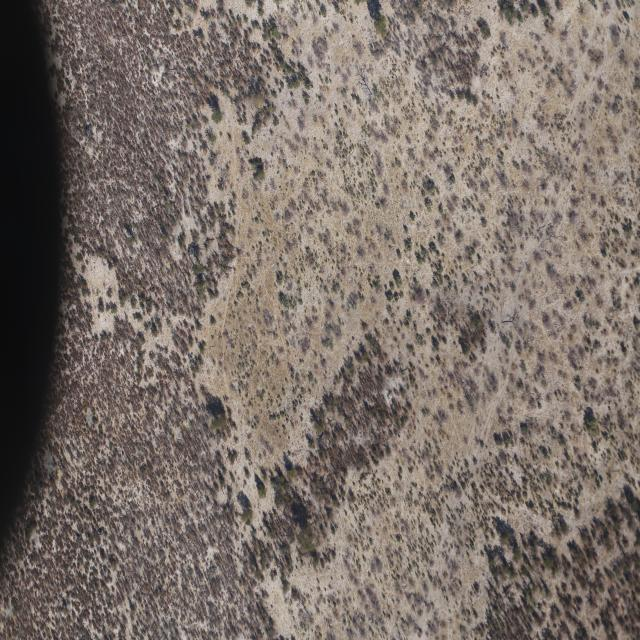elephant: (98, 531, 104, 537), (76, 537, 82, 542), (60, 464, 65, 470), (41, 513, 45, 520)
